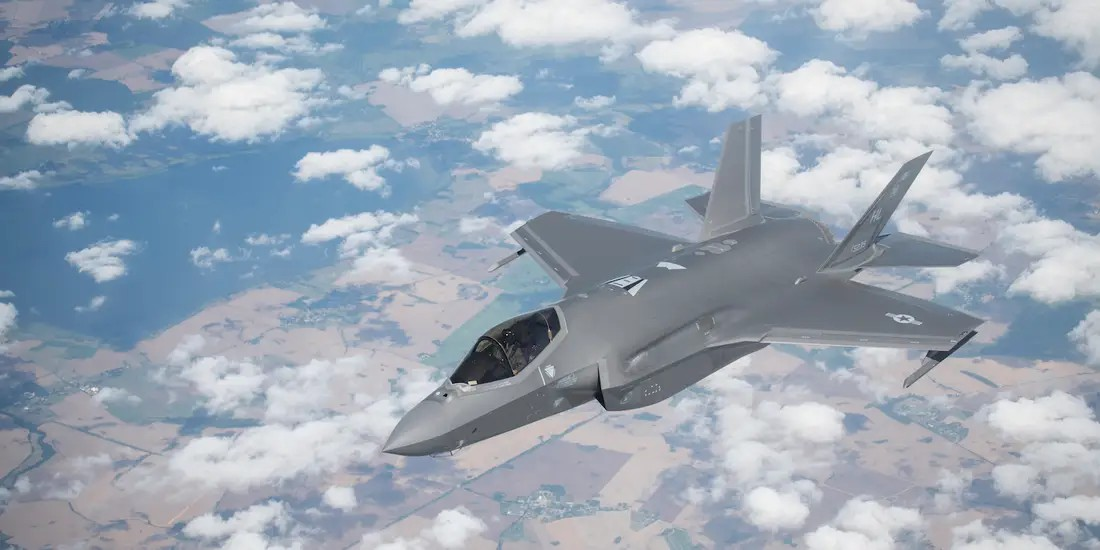F-35 Lightning: (366, 96, 996, 465)
